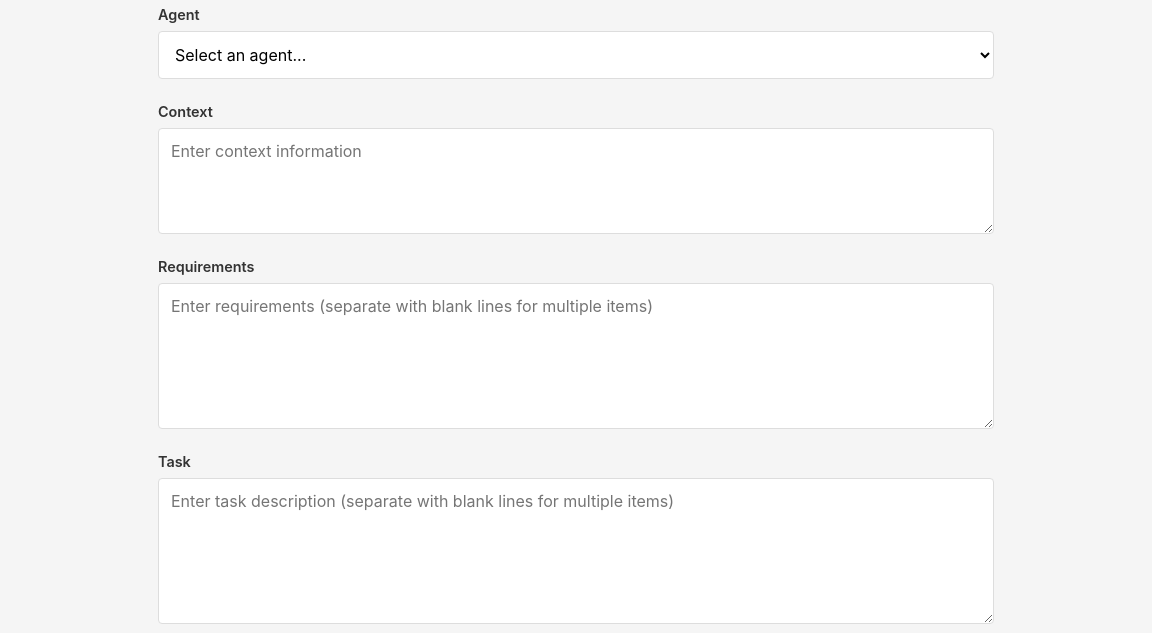
Test case: App › updates XML output when typing in context with task
Expected: the text box labelled "Context" is shown, top-left (158, 128), bottom-right (994, 234)
Need to add task or requirement for XML to generate (context alone doesn't trigger generation)
Type "Some task" into the text box labelled "Task" at (576, 551), box top-left (158, 478), bottom-right (994, 624)
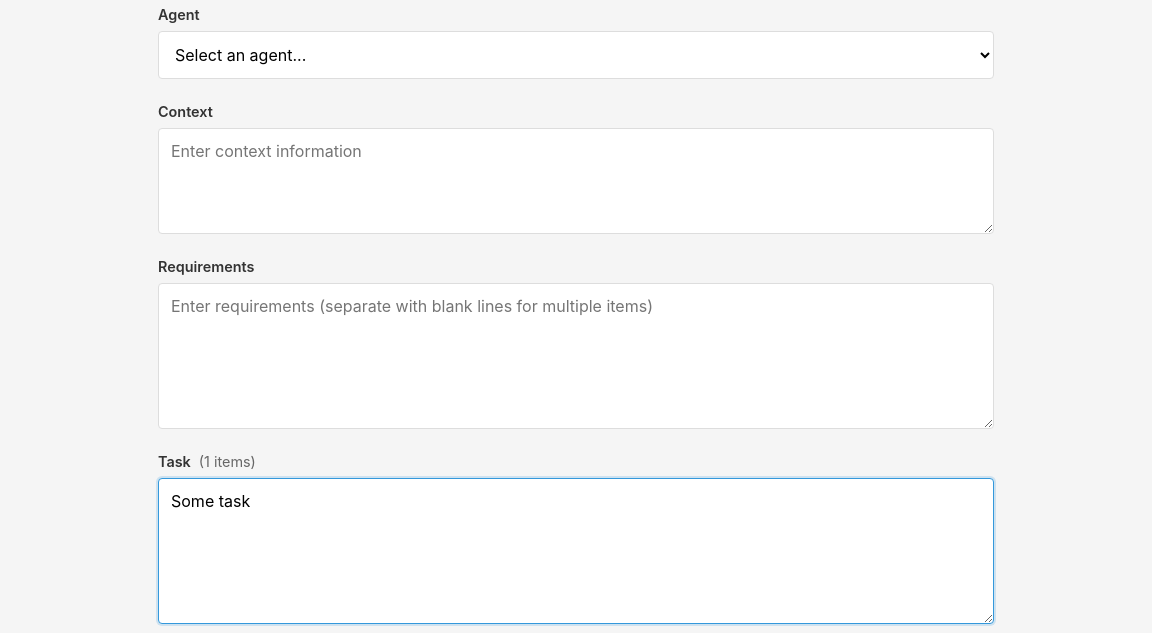
Type "UniqueContextText" into the text box labelled "Context" at (576, 181), box top-left (158, 128), bottom-right (994, 234)
(page scrolled)
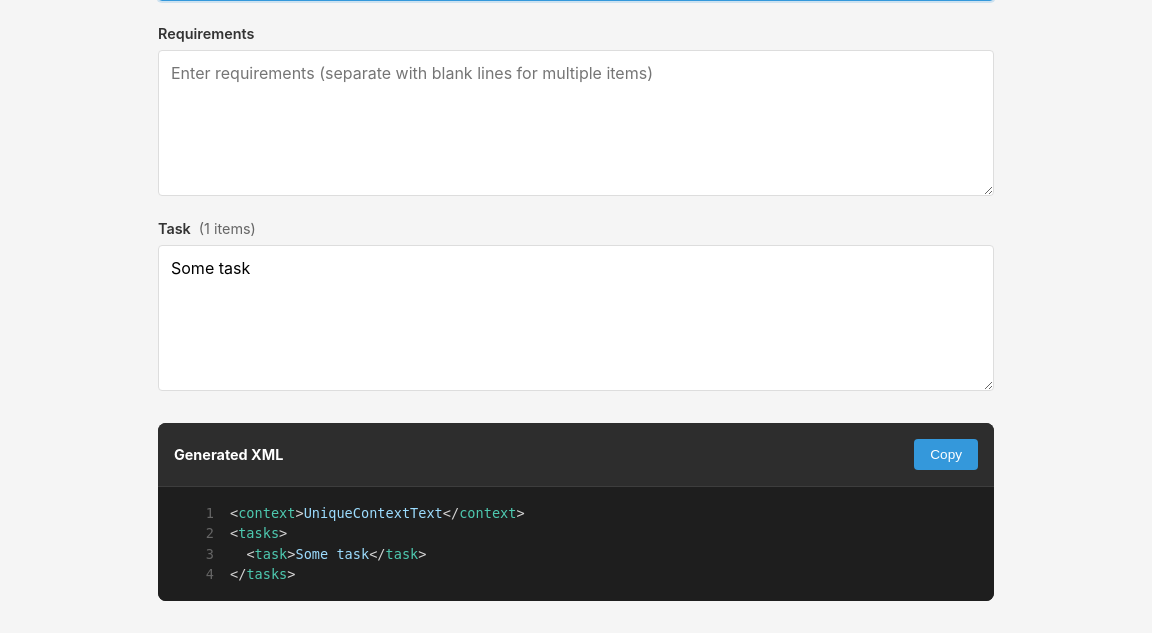
Expected: the element with class "output-panel" shows "UniqueContextText", top-left (304, 505), bottom-right (443, 521)
